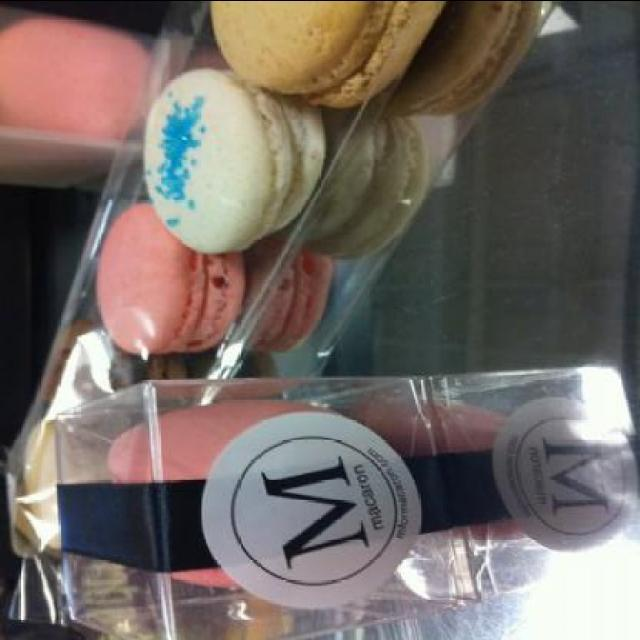Macaron: (79, 2, 439, 360)
